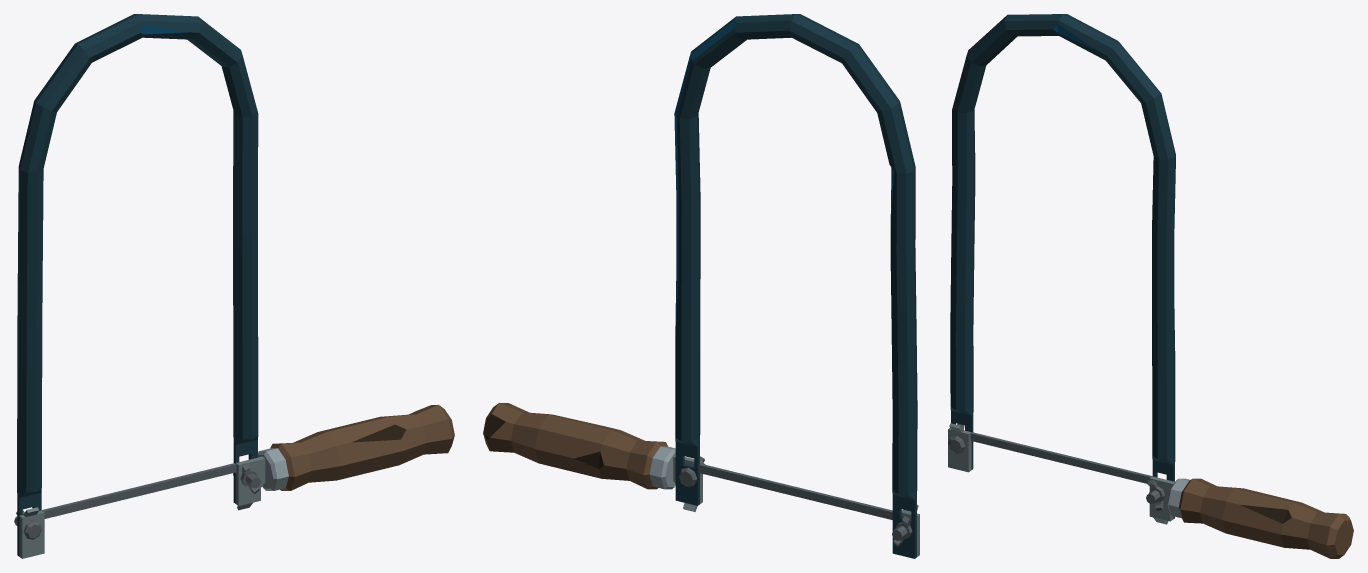
File: SM_Jigsaw.glb
3 views of the same model, side by side, from view 1: azimuth 30°, elevation 25°; view 2: azimuth 150°, elevation 25°; view 3: azimuth 330°, elevation 25° (orthographic). The views are drawn at different scales.
Parts seen in each view (by area): view 1: SM_Jigsaw; view 2: SM_Jigsaw; view 3: SM_Jigsaw.
Part boxes in pixels (left/top/right/bottom): SM_Jigsaw: left=14, top=14, right=454, bottom=558; SM_Jigsaw: left=483, top=14, right=919, bottom=558; SM_Jigsaw: left=948, top=14, right=1353, bottom=558.
Bounding box in the file's own units: 0.2407 × 0.2827 × 0.0265.
1 material, 1 textured.
